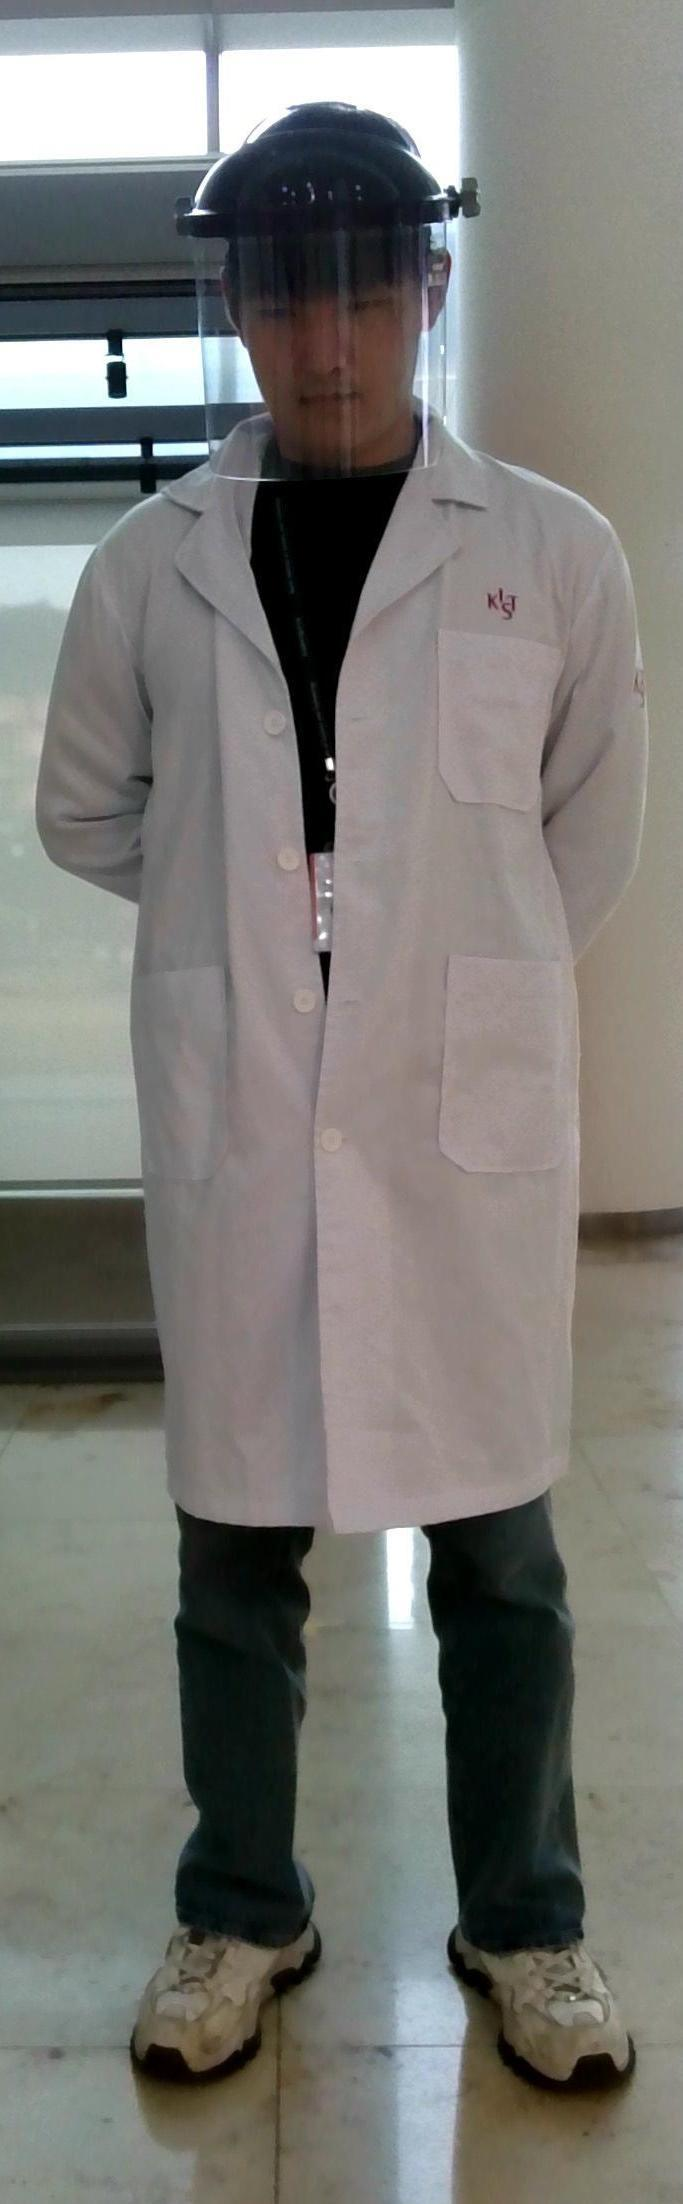lab_coat: (56, 481, 630, 1514)
